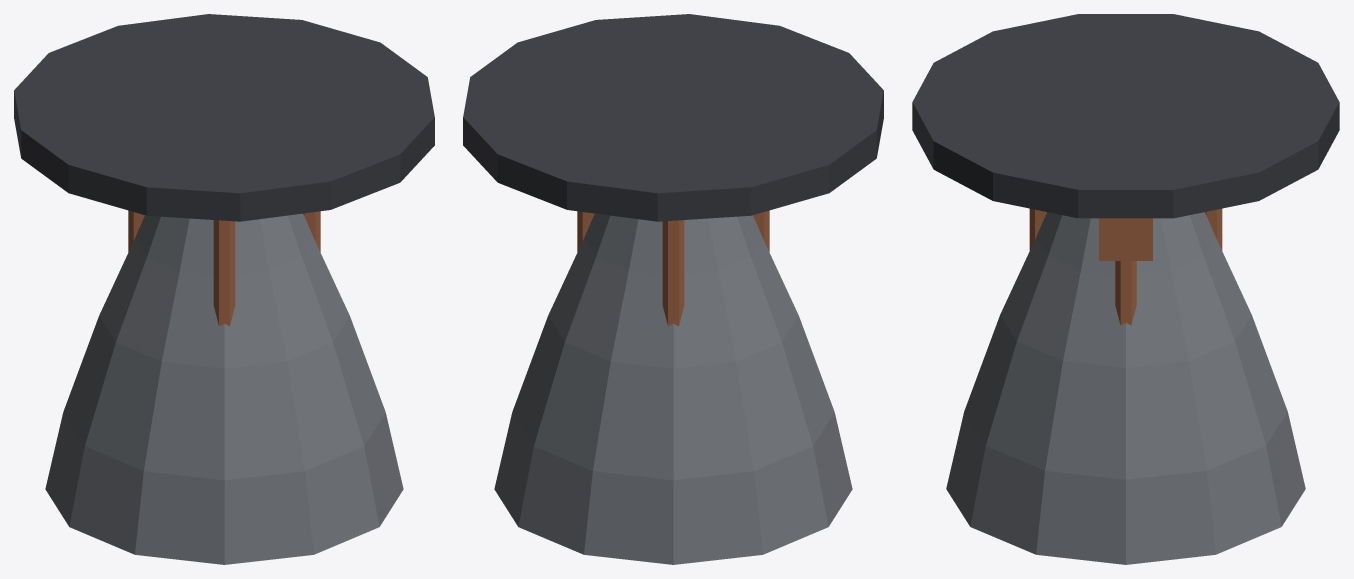
The model's file is Eng_M_Lifter.fbx.
3 views of the same model, side by side, from view 1: azimuth 30°, elevation 25°; view 2: azimuth 150°, elevation 25°; view 3: azimuth 270°, elevation 25° (orthographic).
Visible parts, largest first — view 1: Eng_M_Lifter; view 2: Eng_M_Lifter; view 3: Eng_M_Lifter.
Part boxes in pixels (left/top/right/bottom): Eng_M_Lifter: left=14, top=14, right=434, bottom=564; Eng_M_Lifter: left=463, top=14, right=883, bottom=564; Eng_M_Lifter: left=912, top=14, right=1339, bottom=564.
Size of the model in its own units: 1.85 by 1.9 by 1.9.
Materials: 1 (1 with a texture image).
